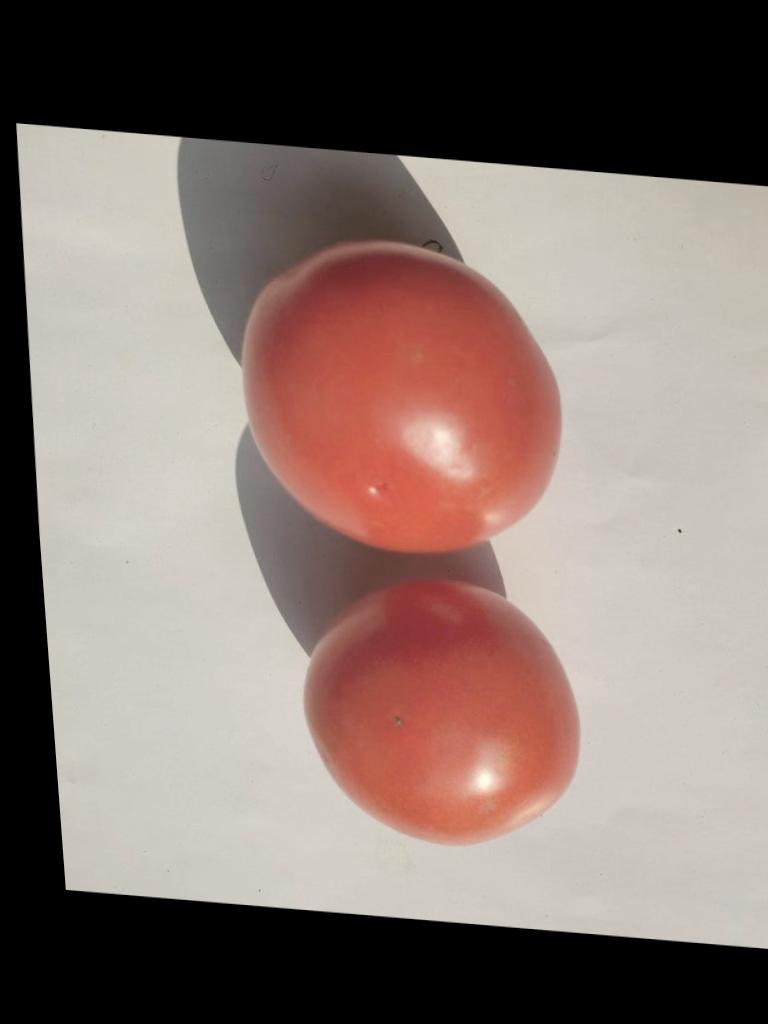tomato: (242, 240, 559, 549), (305, 579, 577, 843)
